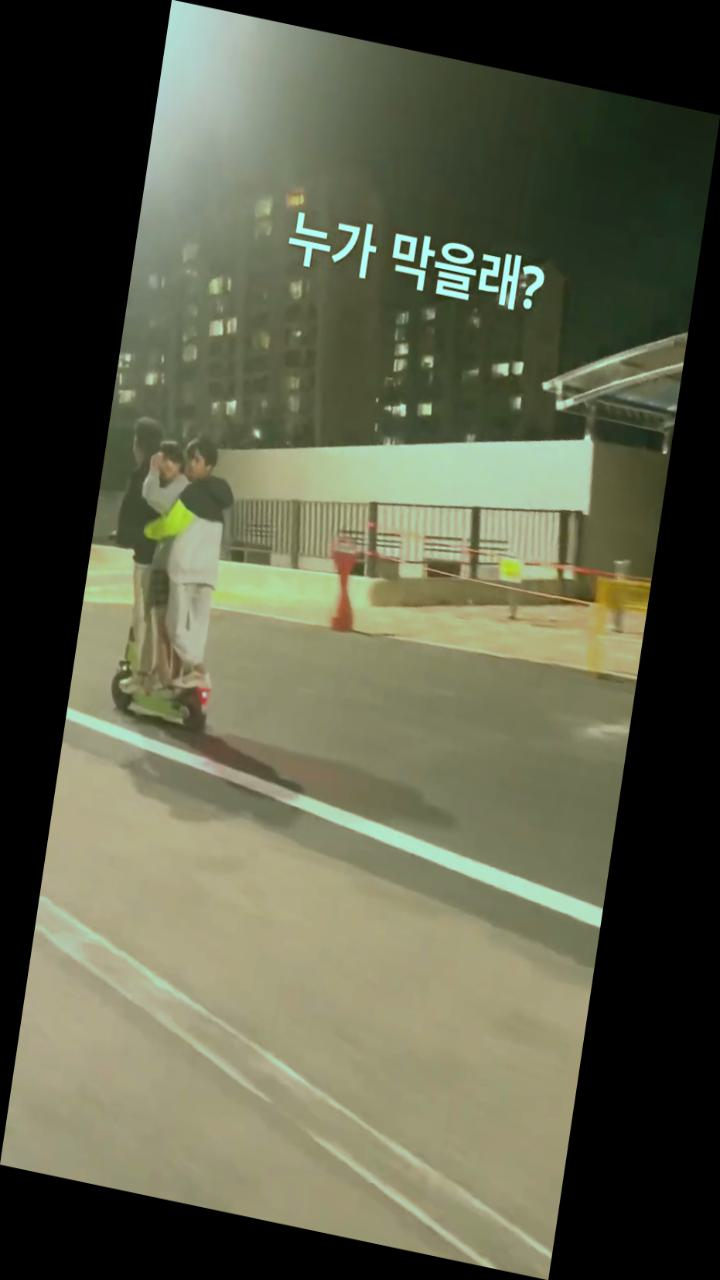multiple: (85, 411, 253, 736)
